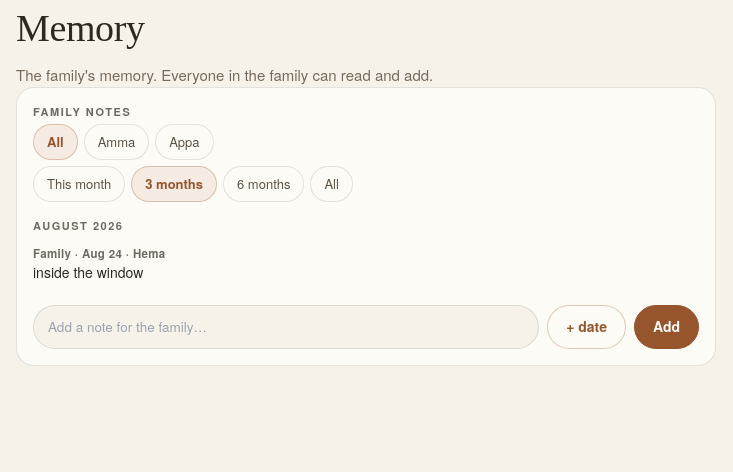
it: the filters on the Memory screen › hides older notes until All-time is one tap away (DECISIONS 211)
Check: the text "older than three months" is not shown
Click the 4th radio button with test id "notes-time-filter-option": (332, 184) [310,166,353,202]
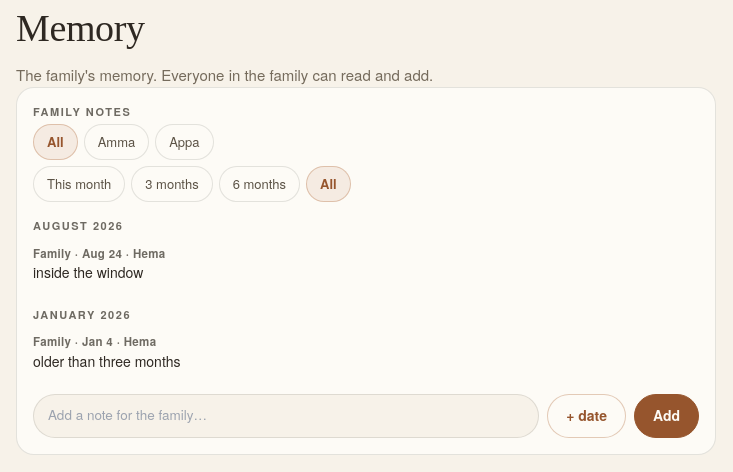
Check: the text "older than three months" is shown, box [33,350,180,370]
